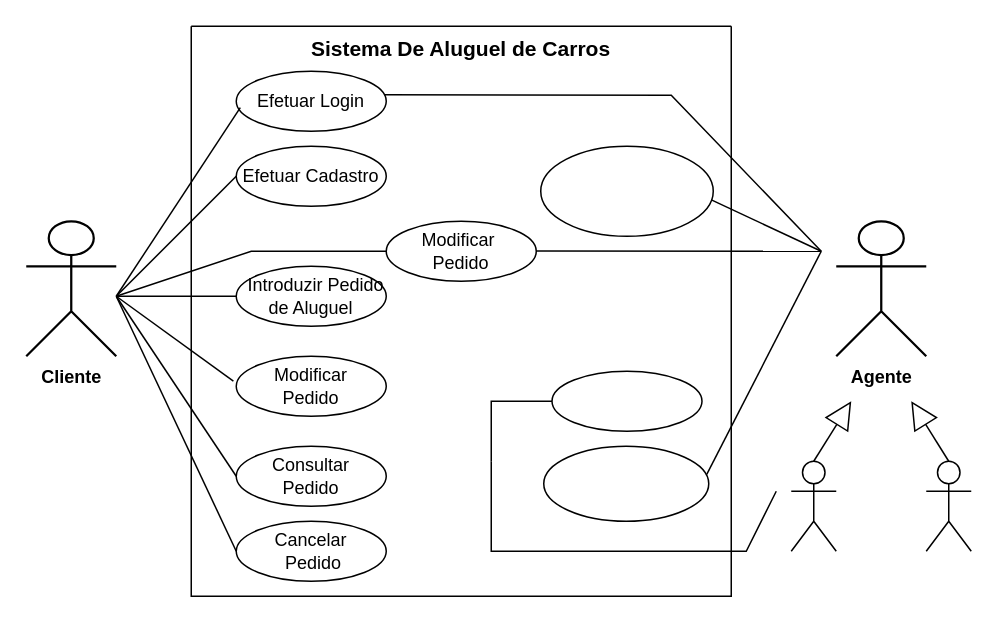
Image size: 1004x623. Some labels were removed from this diagram. Here are the shapes that lost their labels. From the top down, the centre of each, then its label:
At (x=626, y=190): "Avaliar Pedido ( Financeiramente)".
At (x=626, y=400): "Conceder Crédito".
At (x=625, y=483): "Realizar Contrato Aluguel".
At (x=813, y=505): "Empresa".
At (x=948, y=505): "Banco".
